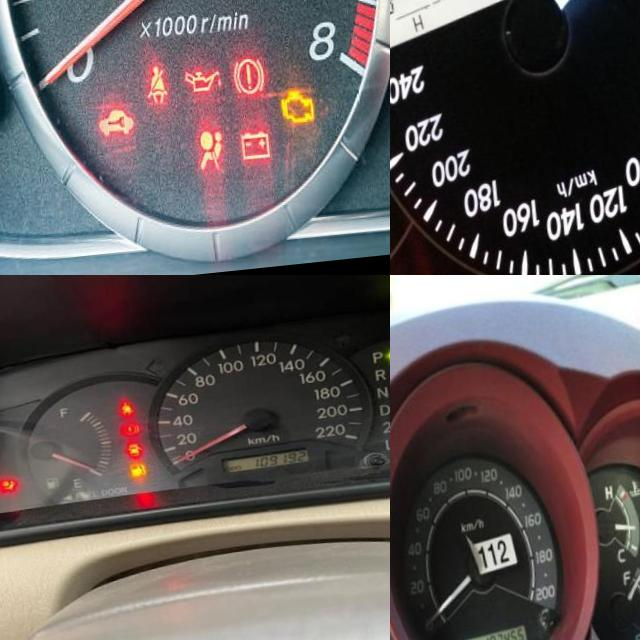Seat Belt: (115, 405, 128, 420)
